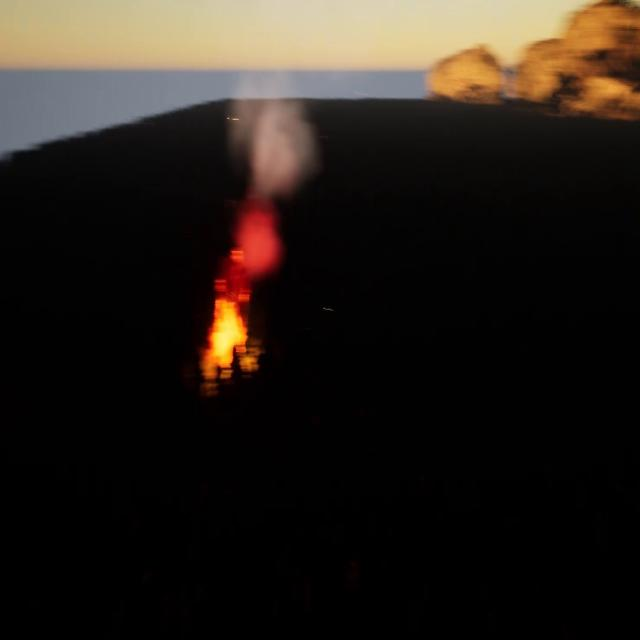fire: (206, 286, 255, 356)
smoke: (225, 68, 318, 298)
